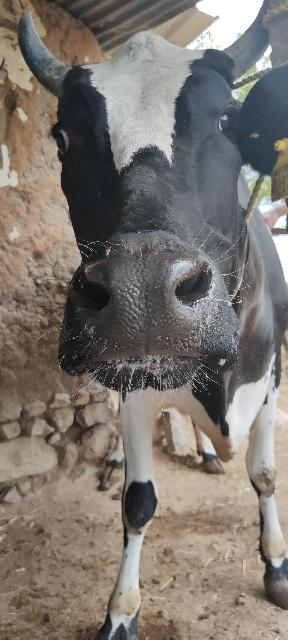Muzzle: (90, 260, 208, 362)
